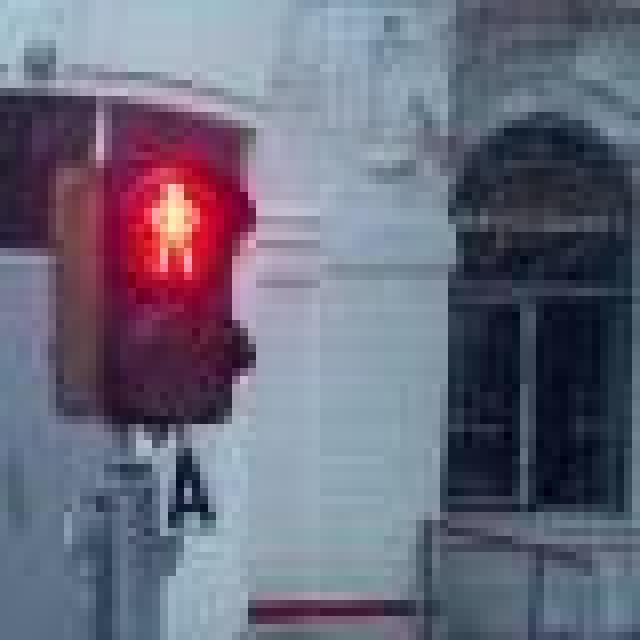redlight: (100, 154, 252, 429)
